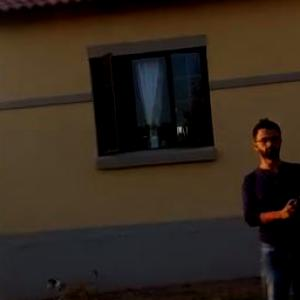follow: (234, 109, 300, 299)
null: (45, 254, 103, 299)
